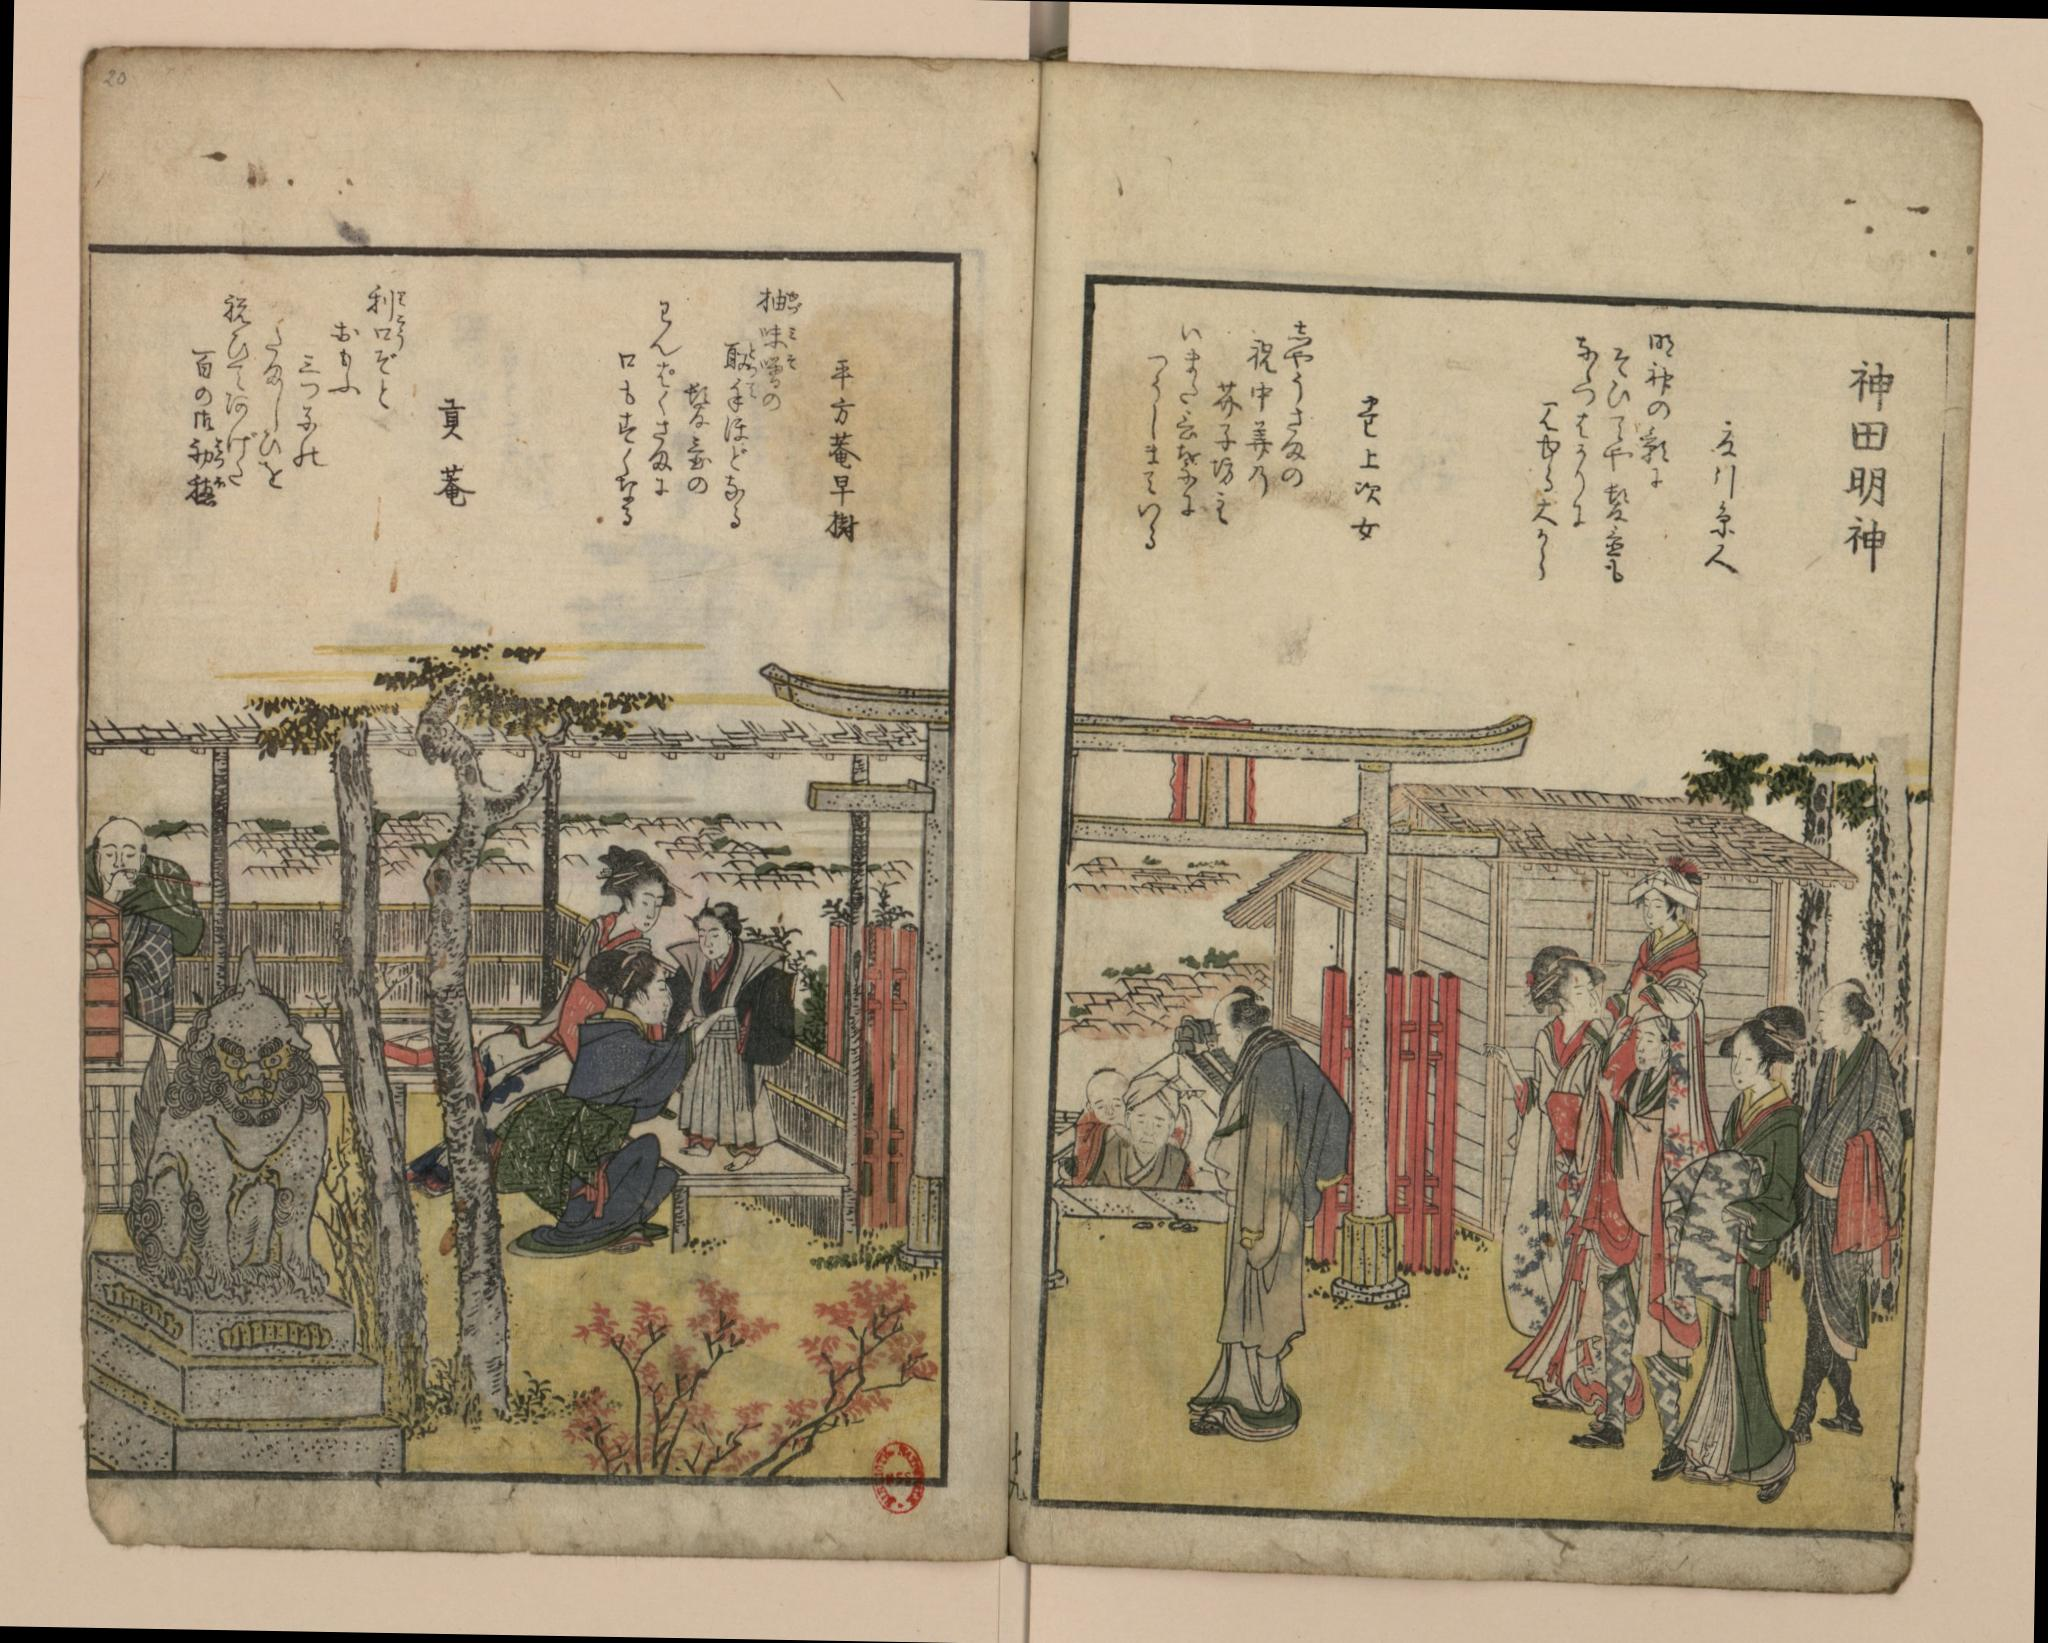MainZone-Character: (183, 471, 230, 511), (183, 434, 230, 471), (364, 314, 409, 349), (721, 335, 759, 376), (759, 352, 799, 389), (758, 287, 806, 317), (365, 283, 409, 315), (756, 319, 799, 349), (726, 376, 758, 414)
MainZone-Ruby: (392, 314, 409, 349), (746, 337, 759, 374), (211, 436, 226, 468), (786, 292, 803, 315), (396, 287, 409, 308), (746, 377, 758, 401), (786, 352, 798, 372), (213, 473, 226, 490), (788, 324, 798, 340)
